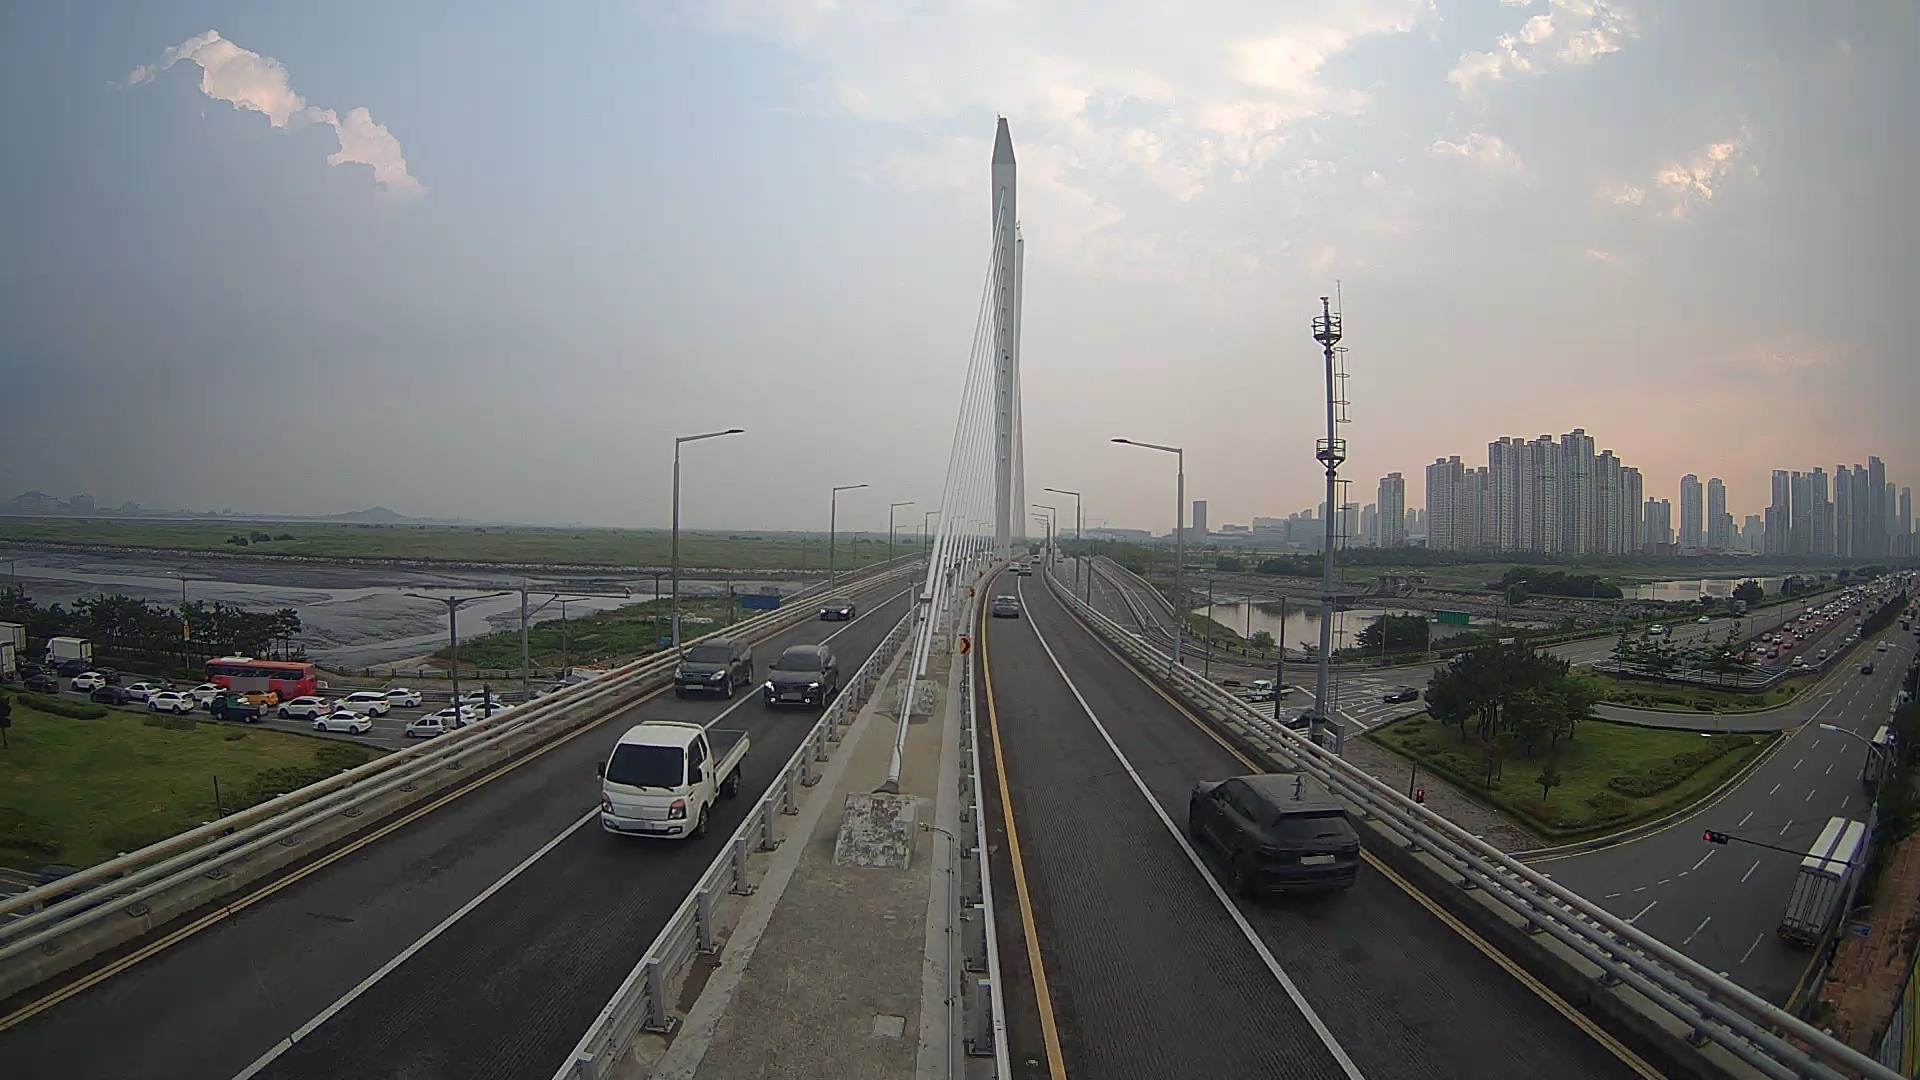정상차량: (599, 720, 750, 839)
